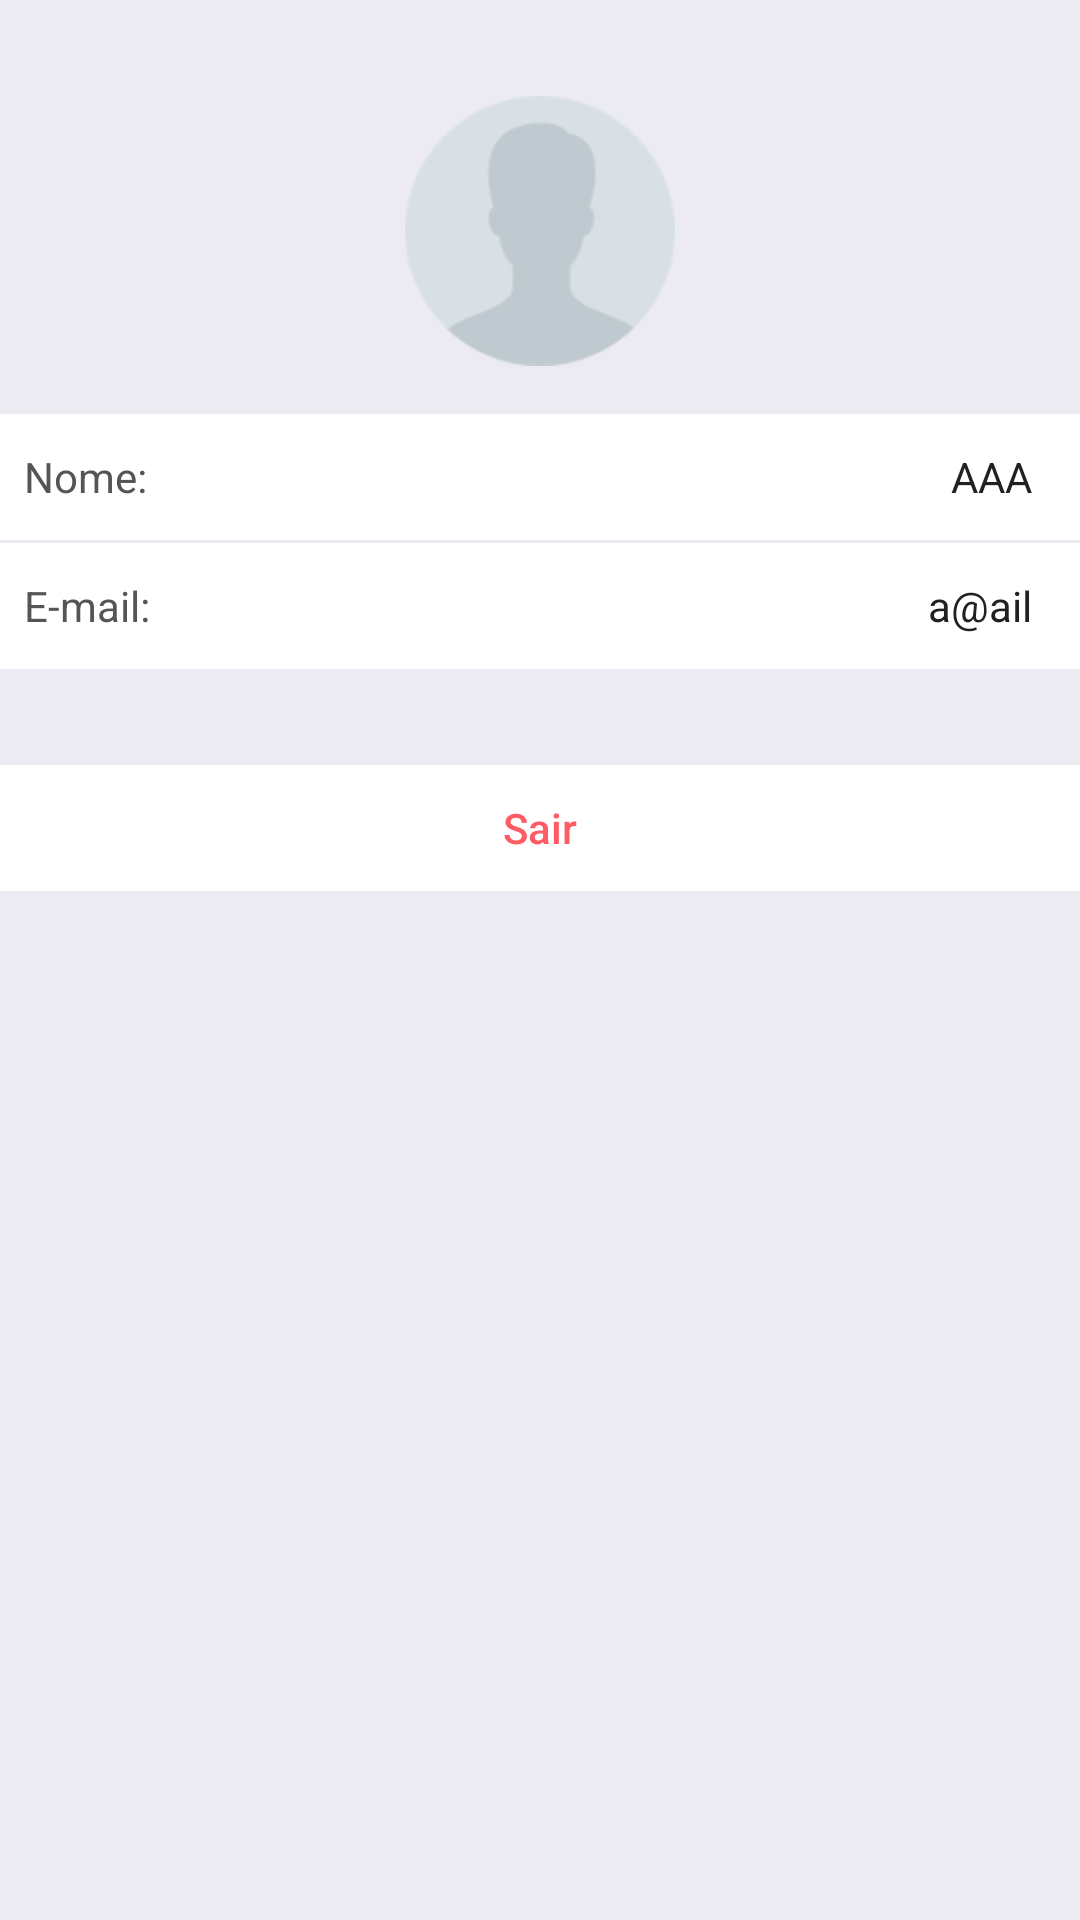

Icon bounding boxes for this 1080 × 1920 phone screenshot, format [x1,y1,x2,y2]:
sem foto: [448,122,633,366]
